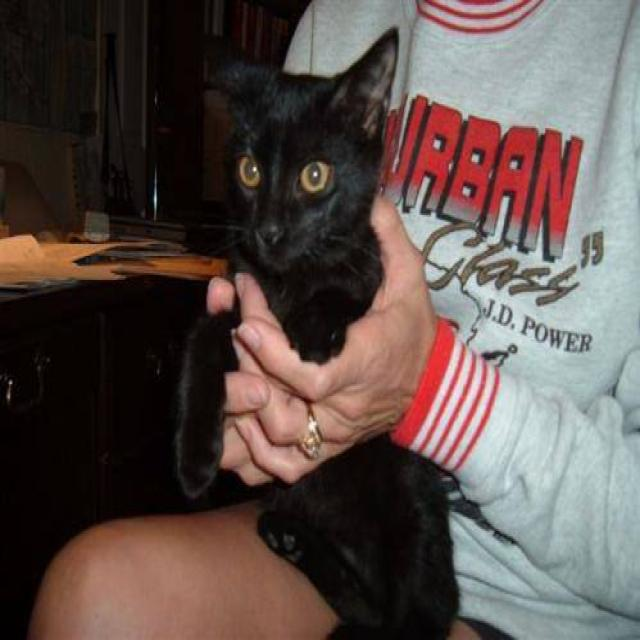cat: (168, 24, 462, 638)
